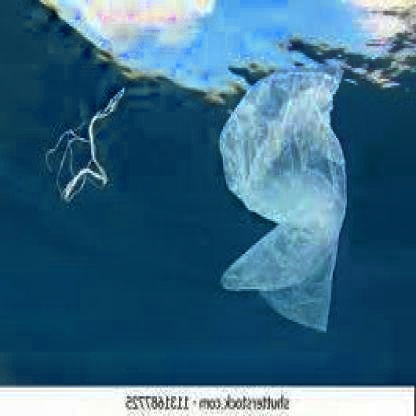pbag: (215, 59, 350, 335)
